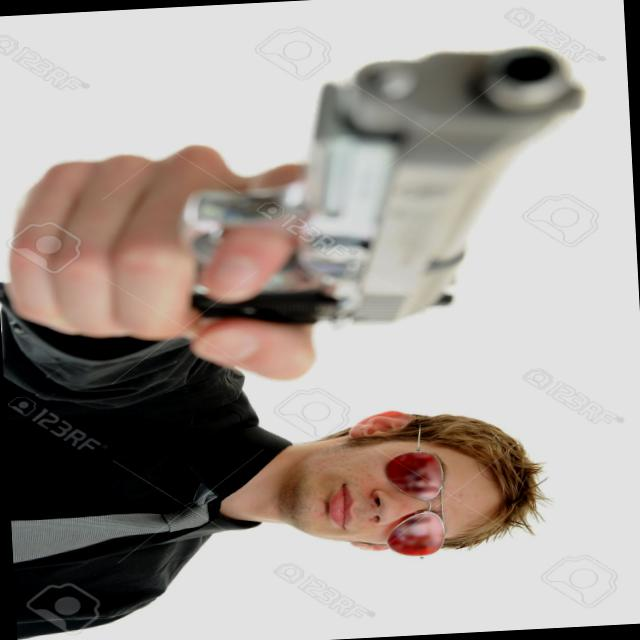handgun: (2, 34, 586, 336)
